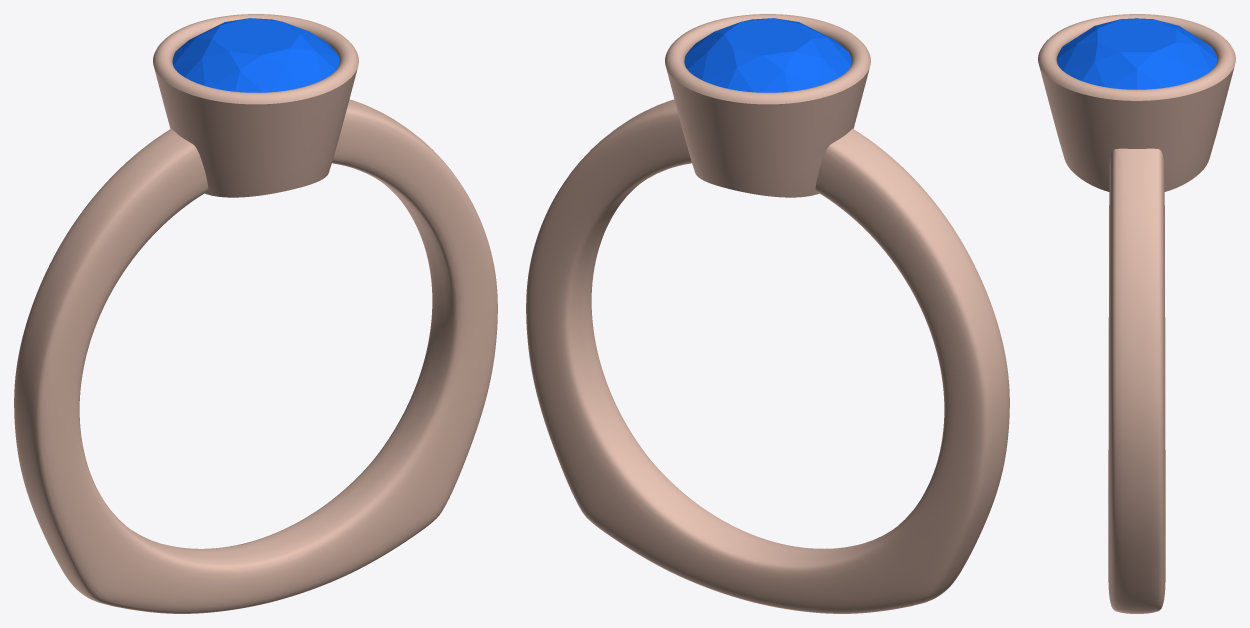
File: bluesapphire-round-rosegold-bezelset-europeanshank-nosidestones.glb
3 renders of one model, left to right at view 1: azimuth 30°, elevation 25°; view 2: azimuth 150°, elevation 25°; view 3: azimuth 270°, elevation 25°, orthographic. The views are drawn at different scales.
Visible parts, largest first — view 1: Round European shank bezel, Roundstone; view 2: Round European shank bezel, Roundstone; view 3: Round European shank bezel, Roundstone.
Boxes of the visible parts, x1,y1,x2,y2 form: Round European shank bezel: (14, 14, 497, 613); Roundstone: (172, 18, 339, 92); Round European shank bezel: (526, 14, 1009, 613); Roundstone: (684, 18, 851, 92); Round European shank bezel: (1038, 14, 1235, 613); Roundstone: (1056, 18, 1217, 89).
Size of the model in its own units: 20.71 by 23.81 by 7.94.
